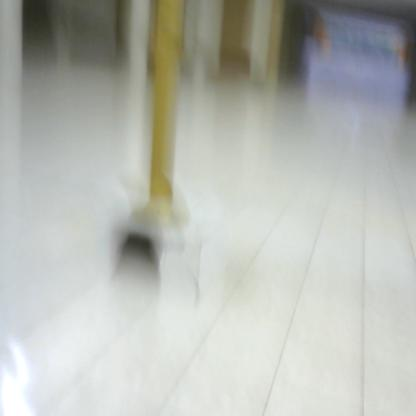pole: (125, 1, 199, 249)
